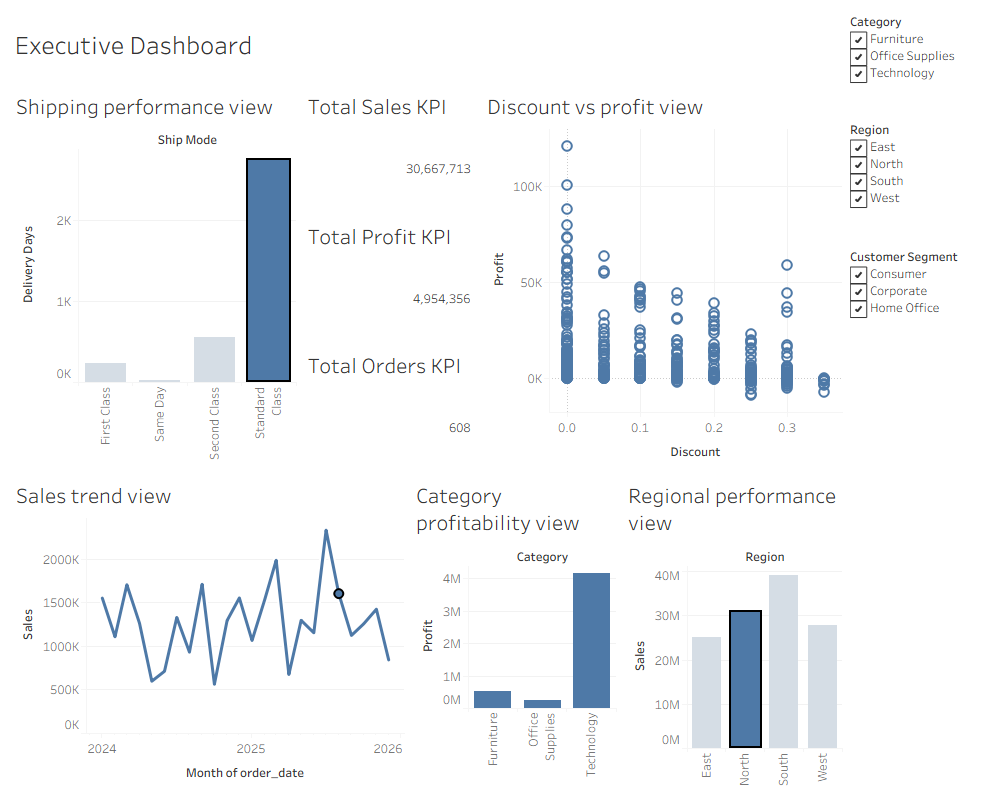

The dashboard page shown, as its layout file describes it:
{"tool":"tableau","page":{"name":"Dashboard 1","canvas":[1000,800],"ordinal":0},"visuals":[{"type":"title","box":[8,8,838,74]},{"type":"filter","title":"Category profitability view","param":"[federated.0m698y60szr5s61d0dd7e1rdqmkc].[none:category:nk]","box":[846,8,146,108]},{"type":"worksheet","title":"Shipping performance view","mark":"Automatic","rows":["delivery_days"],"cols":["ship_mode"],"box":[8,82,292.1,389]},{"type":"worksheet","title":"Total Sales KPI","mark":"Automatic","box":[300.1,82,178.8,129.7]},{"type":"worksheet","title":"Discount vs profit view","mark":"Automatic","rows":["profit"],"cols":["discount"],"box":[478.9,82,367.1,389]},{"type":"filter","title":"Regional performance view","param":"[federated.0m698y60szr5s61d0dd7e1rdqmkc].[none:region:nk]","box":[846,116,146,127]},{"type":"worksheet","title":"Total Profit KPI","mark":"Automatic","box":[300.1,211.7,178.8,129.7]},{"type":"filter","title":"Sales trend view","param":"[federated.0m698y60szr5s61d0dd7e1rdqmkc].[none:customer_segment:nk]","box":[846,243,146,108]},{"type":"worksheet","title":"Total Orders KPI","mark":"Automatic","box":[300.1,341.3,178.8,129.7]},{"type":"worksheet","title":"Sales trend view","mark":"Automatic","rows":["sales"],"cols":["order_date"],"box":[8,471,400.2,321]},{"type":"worksheet","title":"Category profitability view","mark":"Automatic","rows":["profit"],"cols":["category"],"box":[408.2,471,212.1,321]},{"type":"worksheet","title":"Regional performance view","mark":"Automatic","rows":["sales"],"cols":["region"],"box":[620.3,471,225.7,321]}]}

Visuals, with their boxes in screenshot pixels (x1, y1, x2, y2), scaled from the page's 1000x800 canvas onto the 1000x800 screenshot:
title: region(8, 8, 846, 82)
"Category profitability view" filter: region(846, 8, 992, 116)
"Shipping performance view" worksheet: region(8, 82, 300, 471)
"Total Sales KPI" worksheet: region(300, 82, 479, 212)
"Discount vs profit view" worksheet: region(479, 82, 846, 471)
"Regional performance view" filter: region(846, 116, 992, 243)
"Total Profit KPI" worksheet: region(300, 212, 479, 341)
"Sales trend view" filter: region(846, 243, 992, 351)
"Total Orders KPI" worksheet: region(300, 341, 479, 471)
"Sales trend view" worksheet: region(8, 471, 408, 792)
"Category profitability view" worksheet: region(408, 471, 620, 792)
"Regional performance view" worksheet: region(620, 471, 846, 792)
